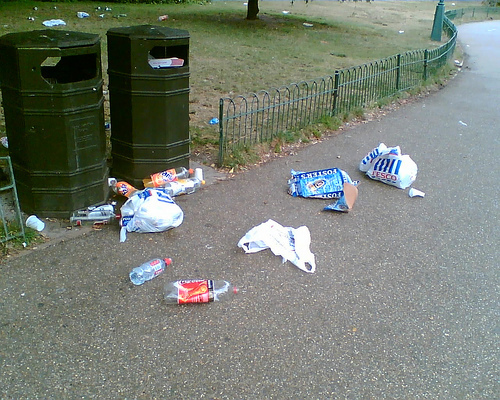litter: (236, 218, 316, 274), (284, 166, 358, 213), (118, 189, 182, 235), (361, 142, 416, 187), (142, 166, 205, 194), (162, 279, 237, 301), (129, 257, 172, 284), (68, 209, 119, 225), (108, 177, 135, 195), (146, 58, 183, 68), (23, 213, 44, 230), (41, 17, 66, 26), (409, 187, 424, 199), (93, 4, 112, 12), (0, 132, 7, 149), (158, 13, 170, 22), (76, 10, 89, 18), (302, 21, 313, 29), (280, 7, 290, 14), (26, 14, 34, 22), (210, 118, 219, 125), (97, 9, 104, 17), (397, 27, 405, 34)
